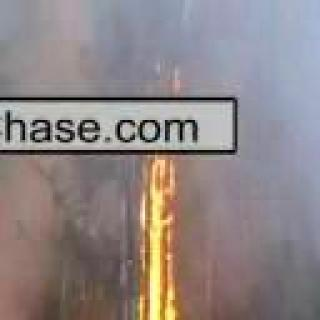fire: (136, 135, 178, 320)
